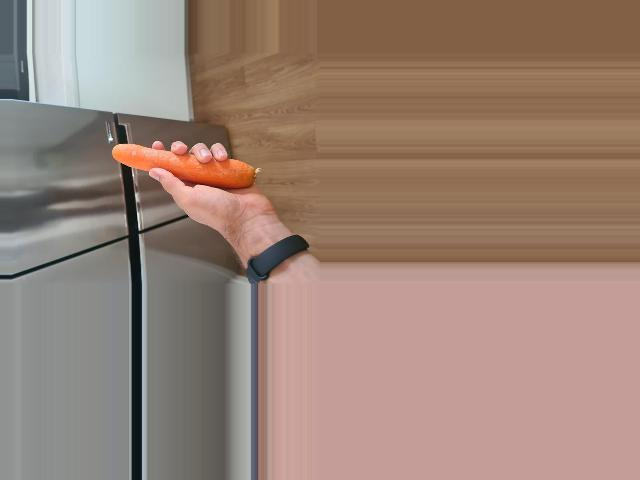carrot: (113, 140, 258, 191)
